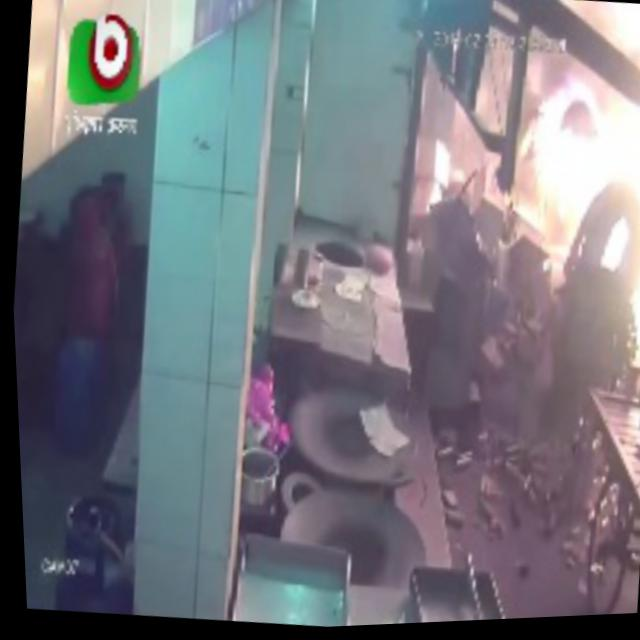fire: (503, 2, 639, 240)
